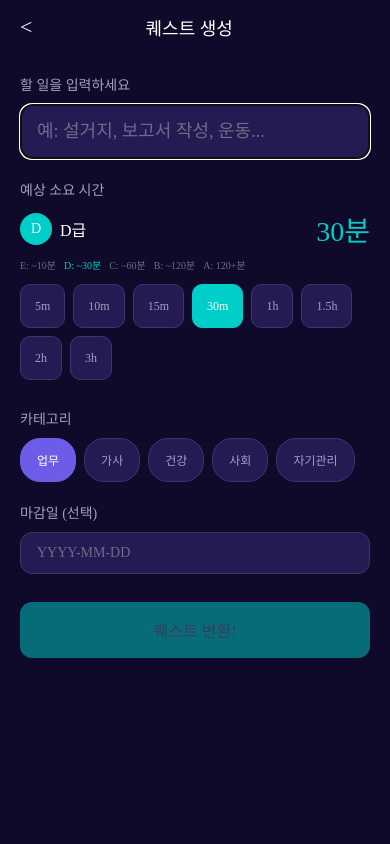
Test: QuestCreateScreen › step 2: shows loading UI "마법진 가동 중..."
Type "설거지" into the field with placeholder "예: 설거지, 보고서 작성, 운동...".
click(195, 132); type("설거지")  # box [20,104,370,159]
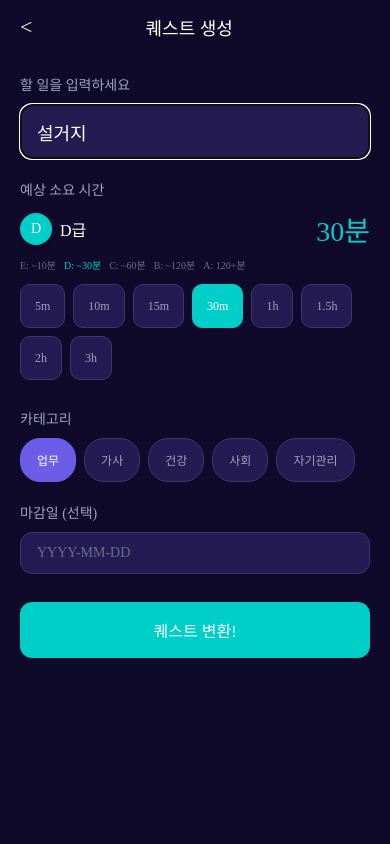
Click the text "퀘스트 변환!".
click(195, 630)  # box [154,618,236,642]
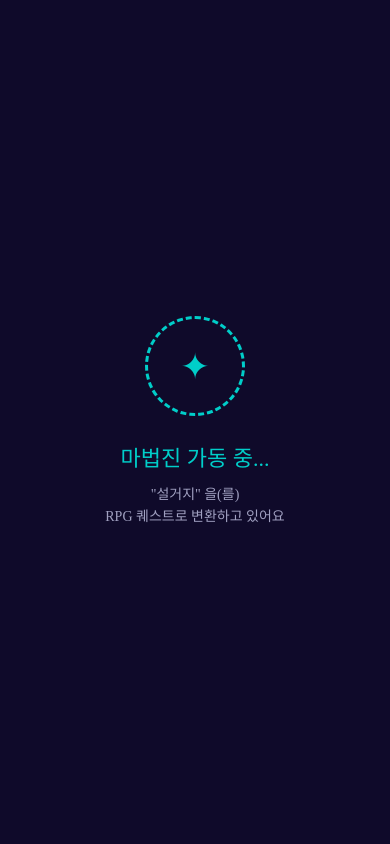
Expected: the text "마법진 가동 중..." is shown, [120,440,270,472]
Expected: the text "\"설거지\" 을(를) RPG 퀘스트로 변환하고 있어요" is shown, [105,484,285,528]
